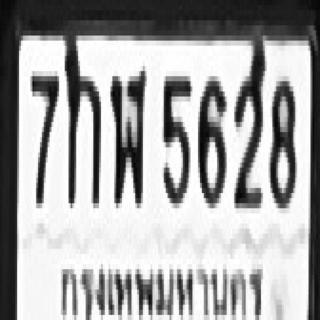A01: (65, 56, 99, 203)
A42: (109, 63, 145, 201)
N02: (232, 43, 263, 206)
N05: (162, 71, 190, 203)
N06: (196, 71, 225, 203)
N07: (29, 66, 57, 203)
N08: (269, 76, 293, 203)
P04: (49, 248, 270, 320)
